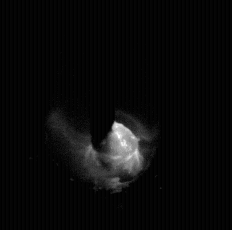arame: (90, 0, 116, 153)
poca: (49, 0, 158, 230)
